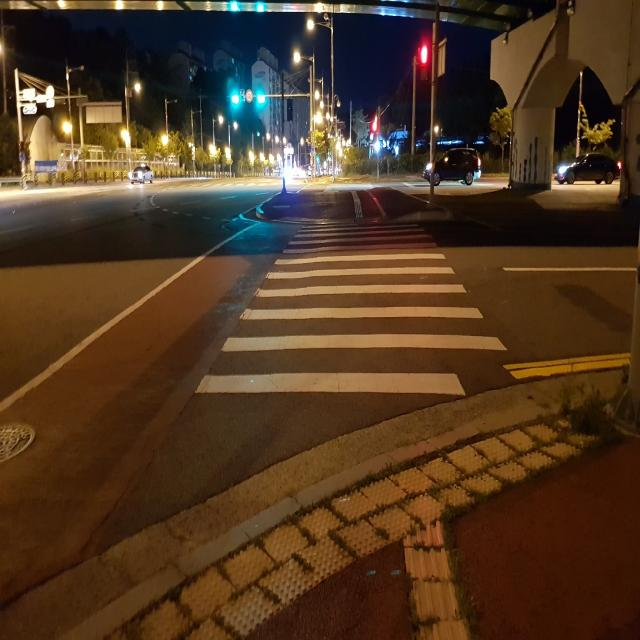빨간불: (420, 42, 430, 83)
횡단보도: (192, 220, 509, 399)
